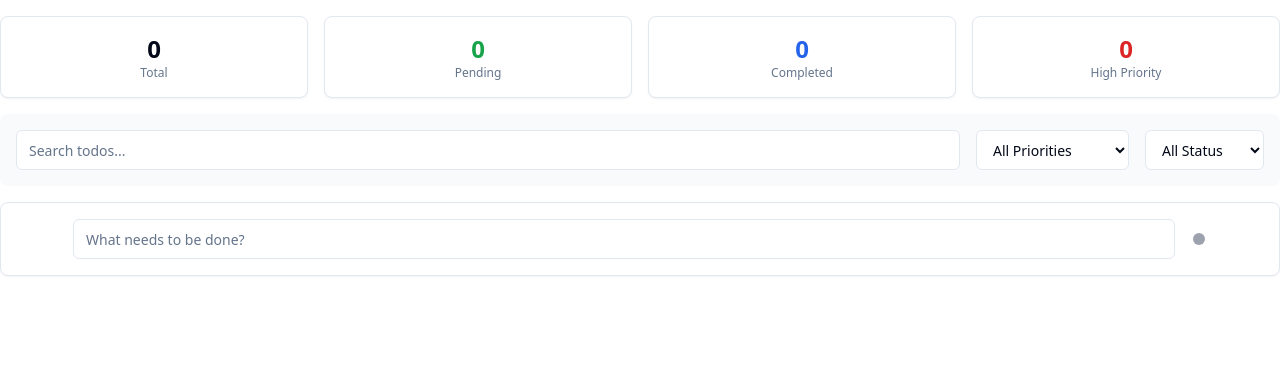
TodoApp - Add Todo Functionality › should show priority dropdown when clicked
The image size is (1280, 391).
Note: Click priority button
Click the button named "Change priority" at (1199,239), box x1=1187 y1=227 x2=1211 y2=251
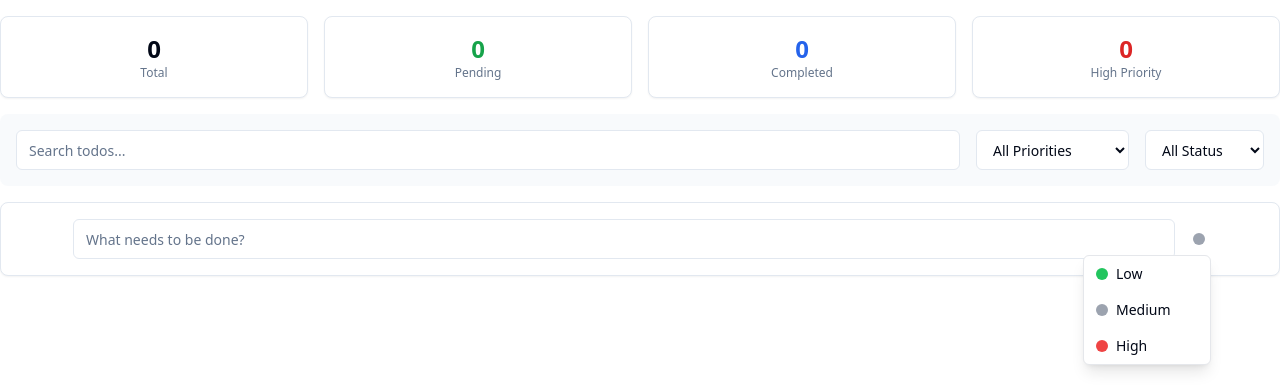
Expected: the element with class "absolute" is shown, x1=1083 y1=255 x2=1211 y2=365
